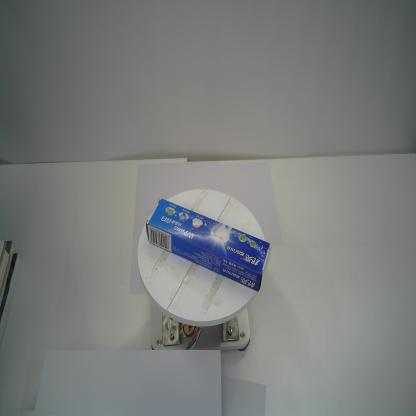Personal Hygiene: (146, 199, 272, 292)
